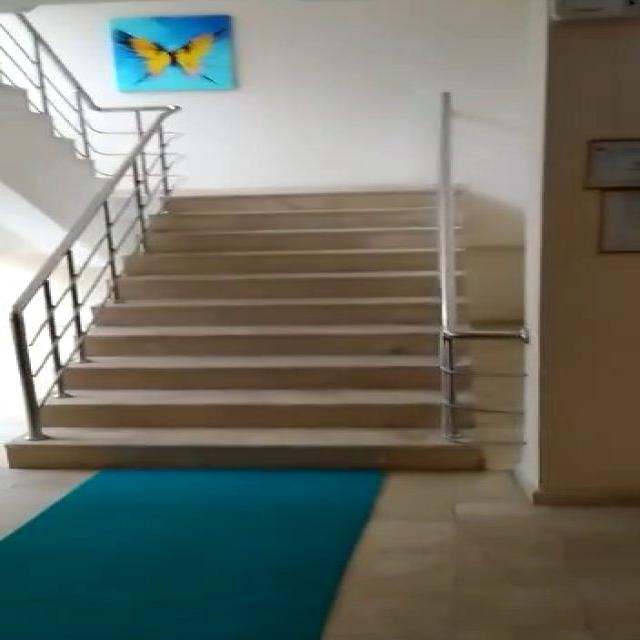upstair: (1, 176, 505, 476)
